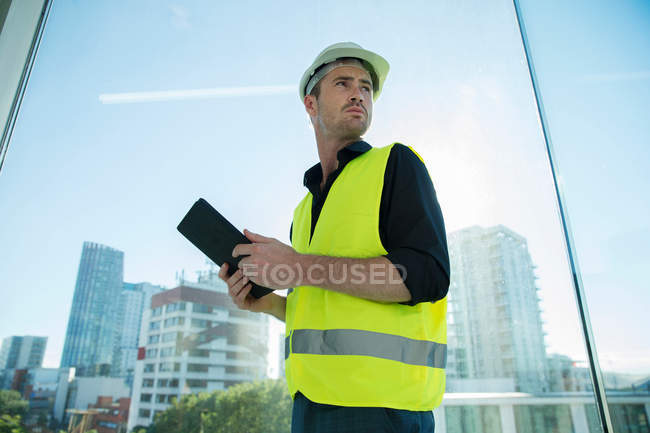Person_wearing_helmet: (294, 35, 392, 115)
